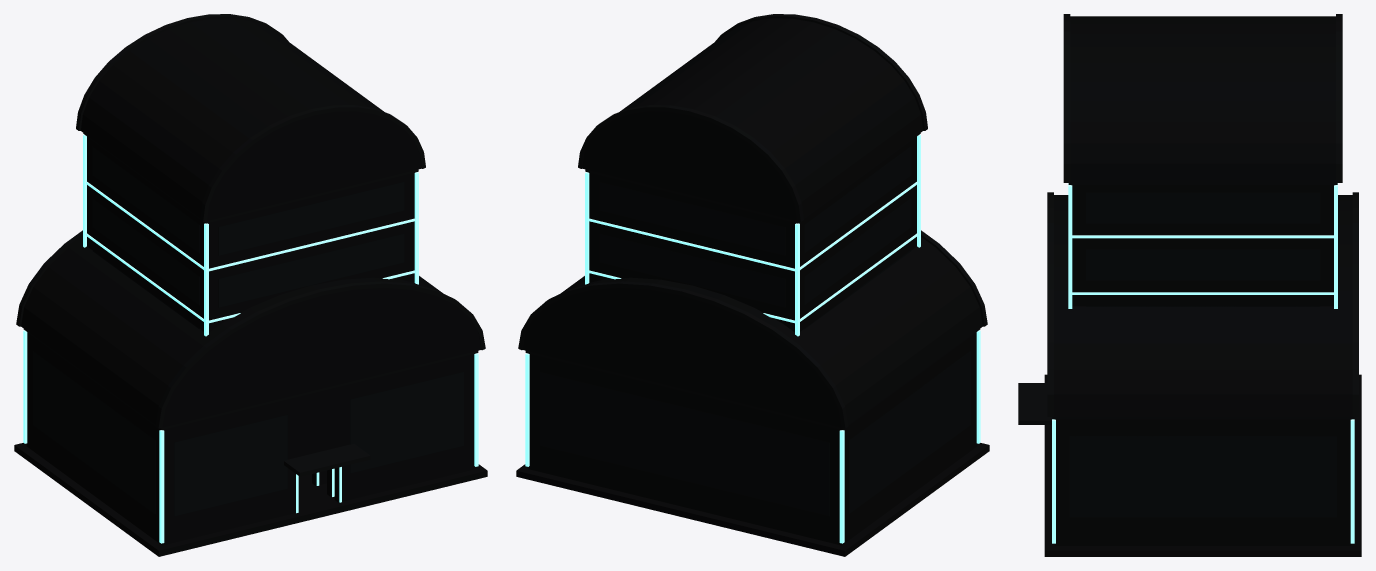
File: shaddai_realm_buildings_grid_v01.glb
3 renders of one model, left to right at view 1: azimuth 30°, elevation 25°; view 2: azimuth 150°, elevation 25°; view 3: azimuth 270°, elevation 25°, orthographic. The views are drawn at different scales.
Parts seen in each view (by area): view 1: shaddai_bld_grid_hall, shaddai_bld_grid_tower; view 2: shaddai_bld_grid_hall, shaddai_bld_grid_tower; view 3: shaddai_bld_grid_hall, shaddai_bld_grid_tower.
Part boxes in pixels (x1=…): shaddai_bld_grid_hall: x1=14, y1=230, x2=487, y2=556; shaddai_bld_grid_tower: x1=76, y1=14, x2=425, y2=505; shaddai_bld_grid_hall: x1=516, y1=230, x2=989, y2=556; shaddai_bld_grid_tower: x1=578, y1=14, x2=927, y2=336; shaddai_bld_grid_hall: x1=1018, y1=192, x2=1361, y2=556; shaddai_bld_grid_tower: x1=1035, y1=14, x2=1342, y2=424.
Bounding box in the file's own units: 25.2 × 29.25 × 20.8.
